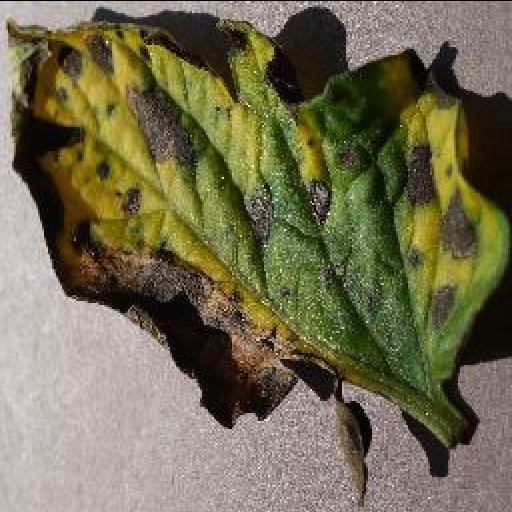disease_tomato: (2, 18, 512, 432)
